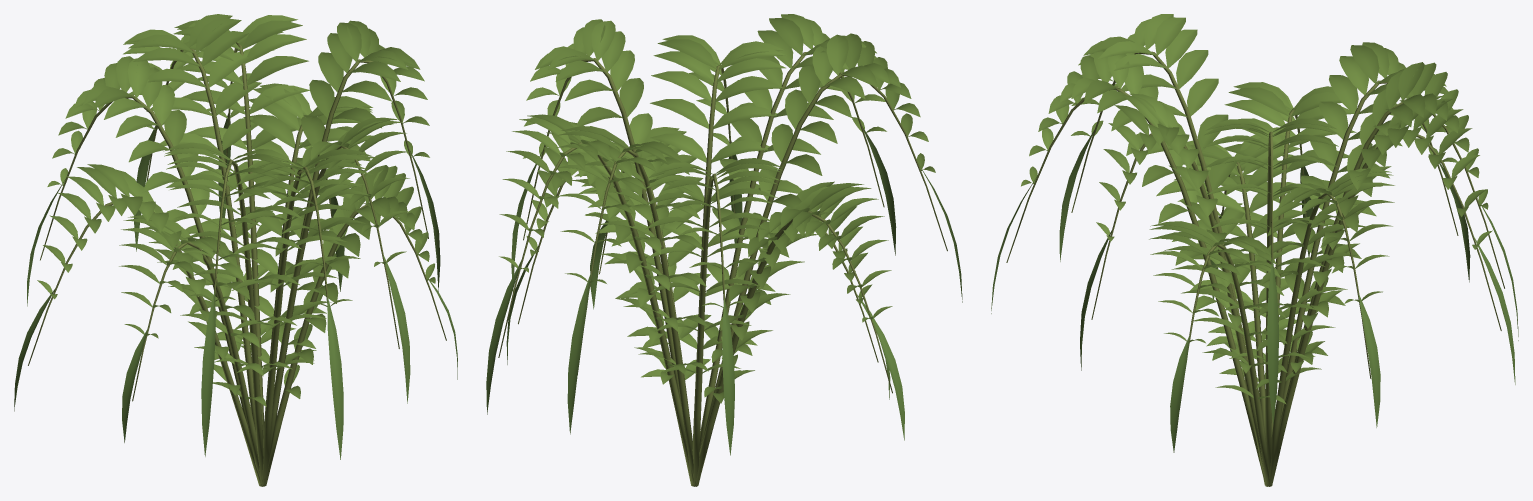
File: fern_1_lod0.glb
3 views of the same model, side by side, from view 1: azimuth 30°, elevation 25°; view 2: azimuth 150°, elevation 25°; view 3: azimuth 270°, elevation 25° (orthographic).
Parts seen in each view (by area): view 1: fern_1_lod0; view 2: fern_1_lod0; view 3: fern_1_lod0.
Boxes of the visible parts, box(x1,y1,x2,y2) form: fern_1_lod0: box(14, 14, 457, 486); fern_1_lod0: box(486, 14, 962, 486); fern_1_lod0: box(991, 14, 1518, 486).
Size of the model in its own units: 1.1 by 1.08 by 1.24.
